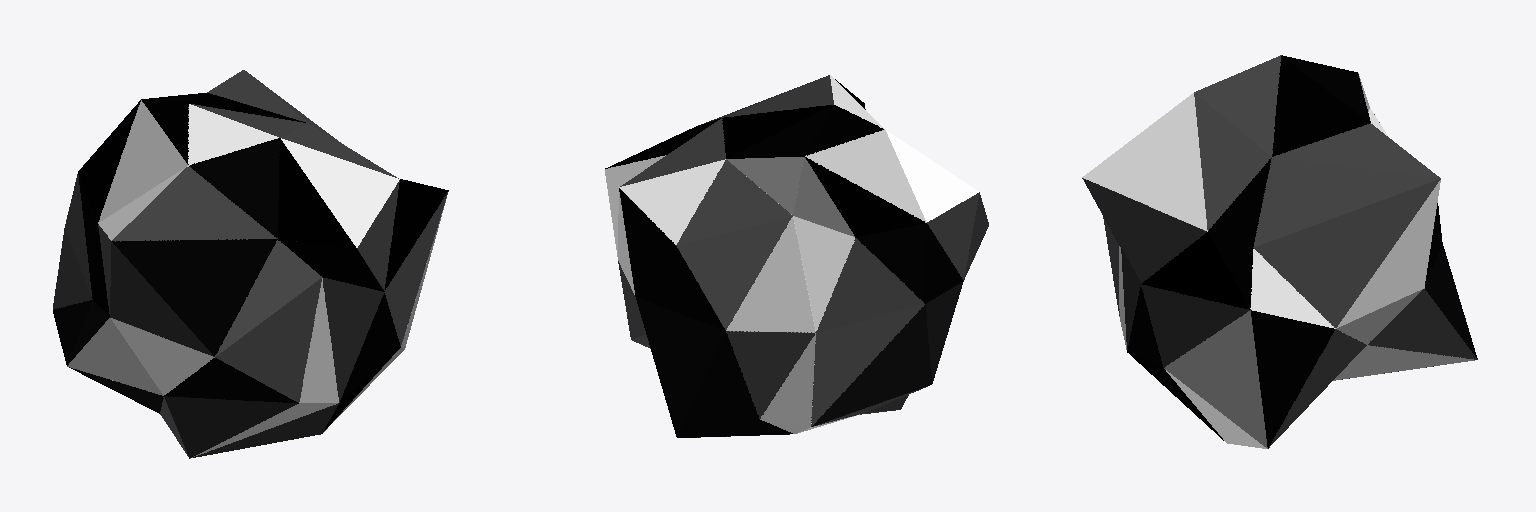
3 views of the same model, side by side, from view 1: azimuth 30°, elevation 25°; view 2: azimuth 150°, elevation 25°; view 3: azimuth 270°, elevation 25° (orthographic).
Parts seen in each view (by area): view 1: Icosphere; view 2: Icosphere; view 3: Icosphere.
Part boxes in pixels (x1,y1,x2,y2): Icosphere: (53, 70, 448, 458); Icosphere: (605, 75, 988, 437); Icosphere: (1082, 55, 1477, 448).
Size of the model in its own units: 2.36 by 2.13 by 2.27.
1 materials, 1 textured.